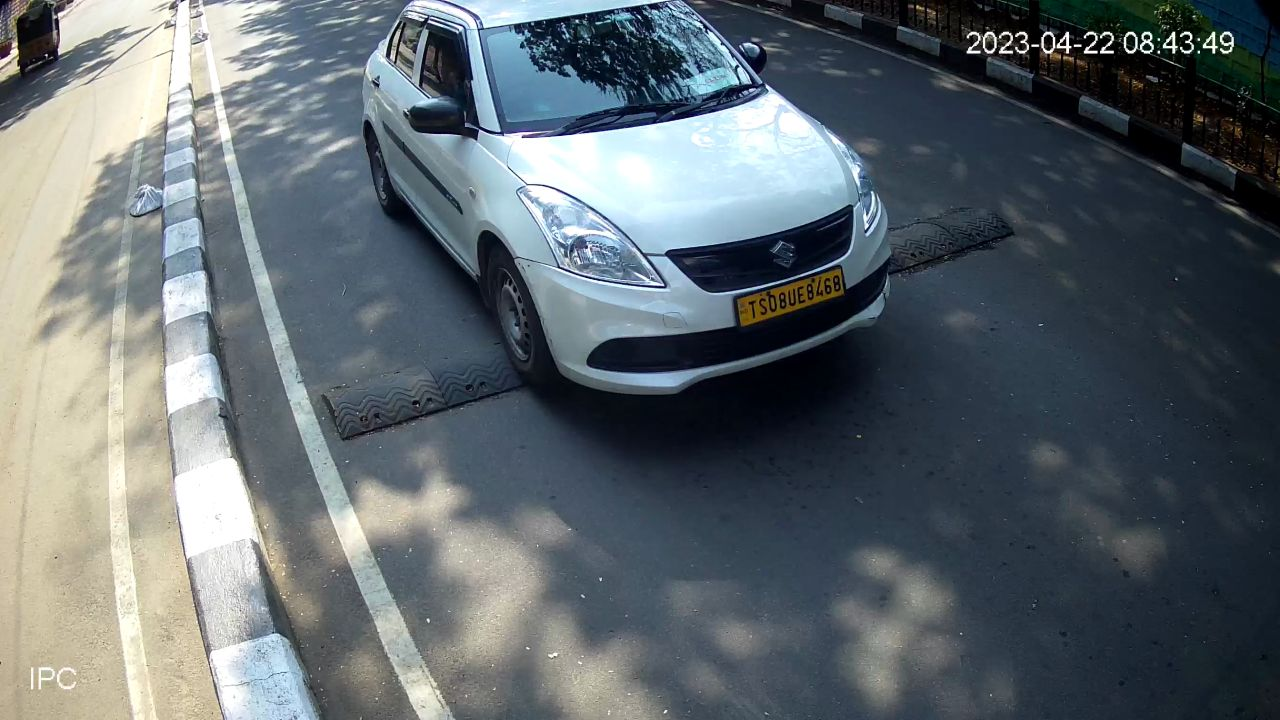license_plate: (729, 258, 851, 335)
